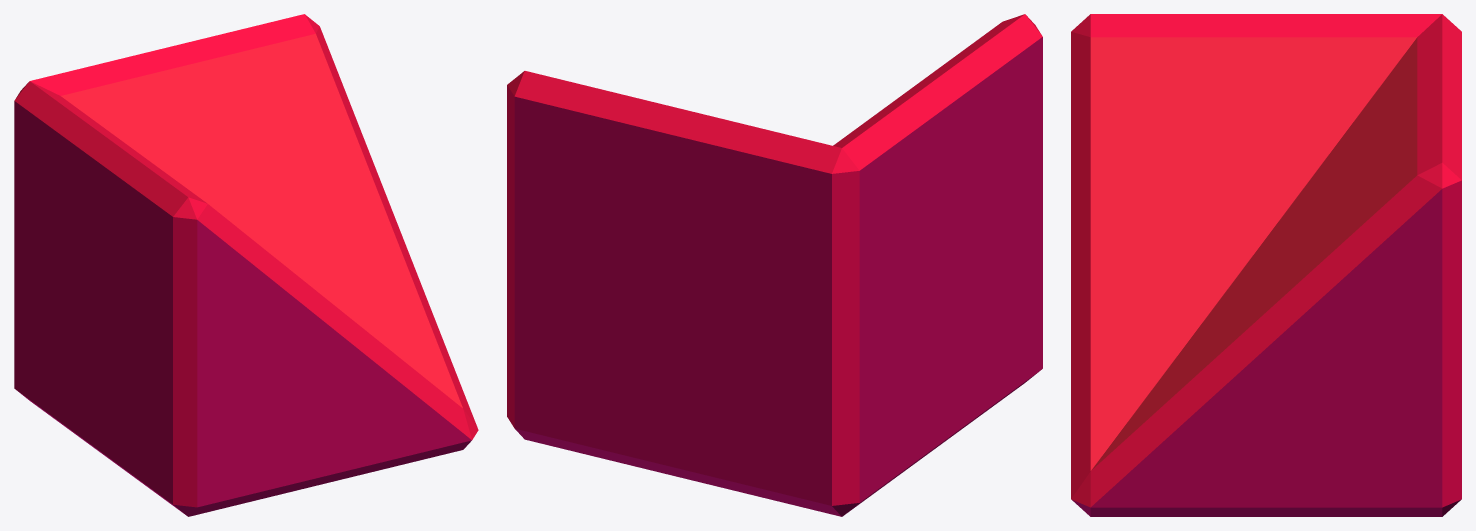
The model's file is m_kub_diagonalPink_cornerIn.FBX.
3 views of the same model, side by side, from view 1: azimuth 30°, elevation 25°; view 2: azimuth 150°, elevation 25°; view 3: azimuth 270°, elevation 25° (orthographic). The views are drawn at different scales.
Visible parts, largest first — view 1: m_kub_diagonalPink_cornerIn; view 2: m_kub_diagonalPink_cornerIn; view 3: m_kub_diagonalPink_cornerIn.
Part boxes in pixels (x1=…): m_kub_diagonalPink_cornerIn: x1=14, y1=14, x2=478, y2=516; m_kub_diagonalPink_cornerIn: x1=507, y1=14, x2=1042, y2=516; m_kub_diagonalPink_cornerIn: x1=1071, y1=14, x2=1461, y2=516.
Size of the model in its own units: 2 by 2 by 2.
